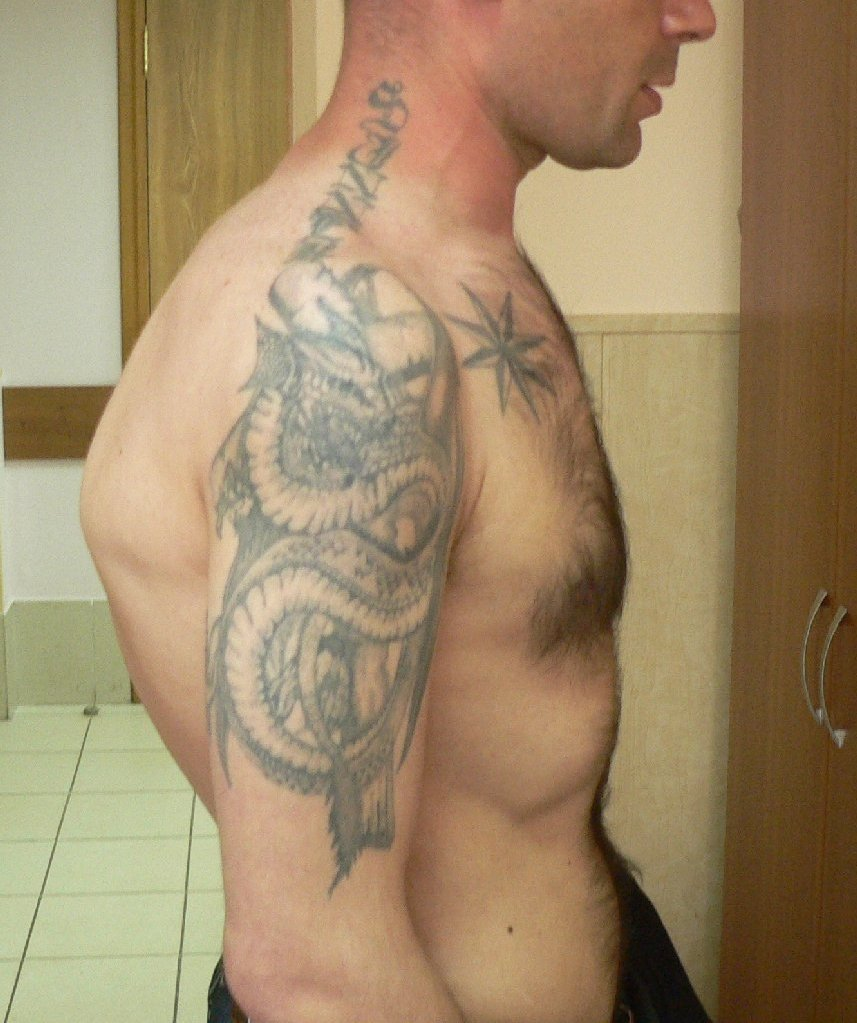tatu3_bukva: (287, 71, 428, 240)
tatu4_zvezda: (456, 248, 558, 442)
tatu7_zmeya: (211, 251, 448, 868)
